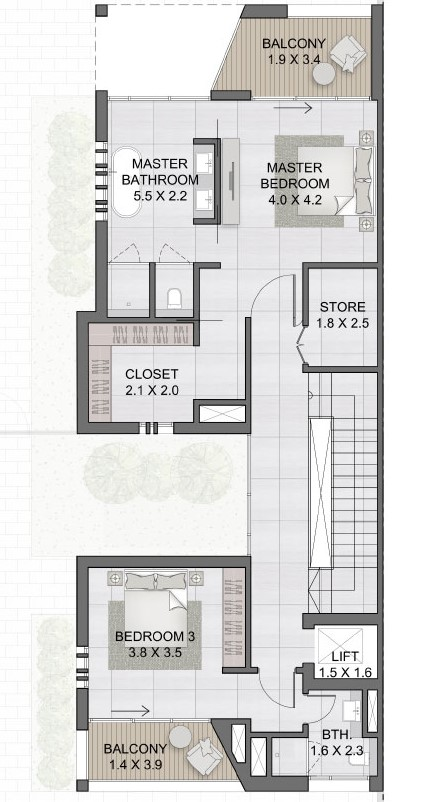wall: (372, 2, 385, 790), (75, 553, 250, 570), (75, 310, 88, 431), (245, 315, 256, 432), (95, 218, 107, 321), (78, 557, 91, 647), (306, 677, 378, 693), (242, 554, 251, 676), (303, 613, 384, 626), (178, 421, 252, 435), (80, 315, 202, 323), (300, 362, 380, 373), (192, 260, 202, 347), (212, 137, 222, 224), (299, 260, 381, 270), (73, 690, 90, 731), (149, 263, 161, 321), (94, 91, 107, 142), (301, 262, 311, 323), (194, 396, 249, 406), (80, 423, 139, 432), (301, 664, 316, 693), (221, 665, 263, 675), (208, 93, 251, 102), (192, 135, 221, 147), (192, 217, 222, 226), (77, 776, 89, 791), (196, 264, 219, 271)
